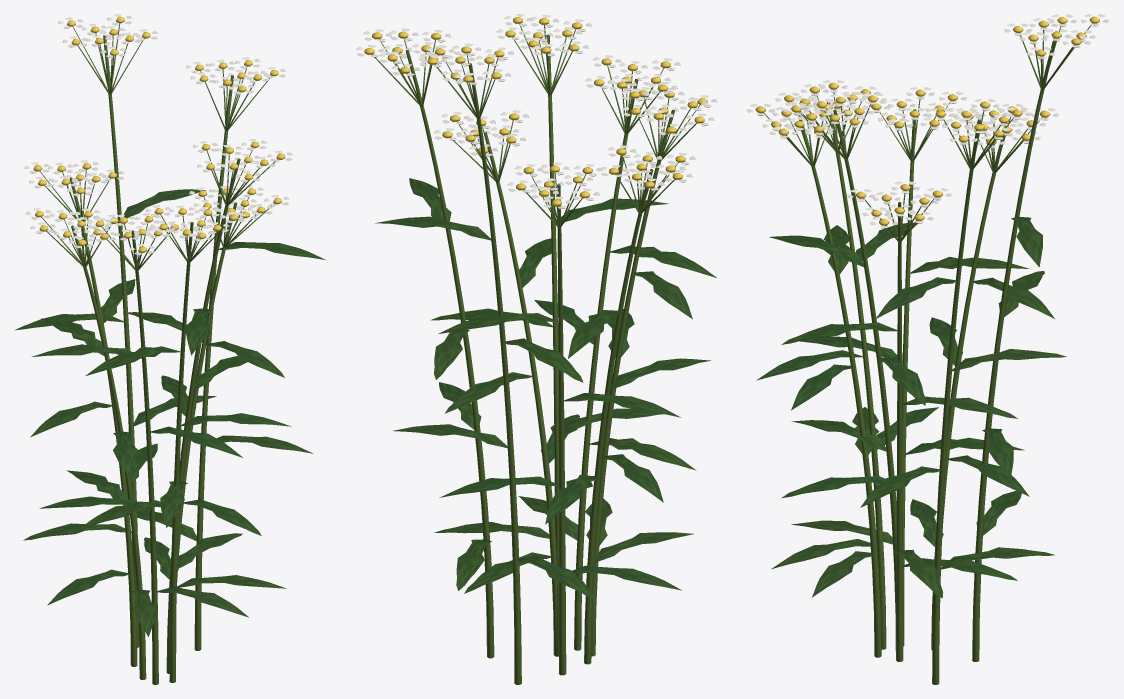
File: m-yarrow.glb
The picture shows the model from 3 angles, left to right: view 1: azimuth 30°, elevation 25°; view 2: azimuth 150°, elevation 25°; view 3: azimuth 270°, elevation 25°; orthographic projection. The views are drawn at different scales.
Parts seen in each view (by area): view 1: Foliage, Stems, Flowers; view 2: Stems, Foliage, Flowers; view 3: Foliage, Stems, Flowers.
Boxes of the visible parts, box(x1,y1,x2,y2) form: Foliage: box(15, 189, 326, 636); Stems: box(39, 23, 277, 684); Flowers: box(24, 14, 292, 255); Stems: box(372, 23, 700, 684); Foliage: box(375, 178, 716, 600); Flowers: box(355, 14, 716, 209); Foliage: box(756, 216, 1066, 598); Stems: box(763, 23, 1092, 684); Flowers: box(746, 14, 1109, 228).
Bounding box in the file's own units: 0.304 × 0.62 × 0.3198.
Materials: 3 (1 with a texture image).
